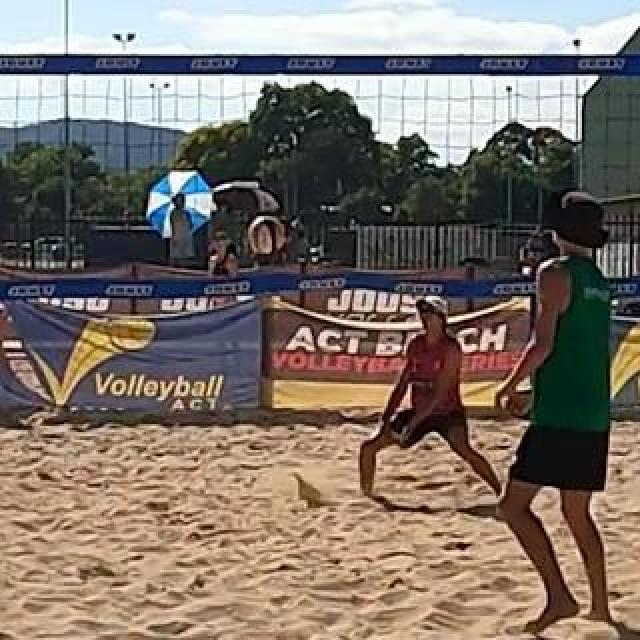volleyball: (247, 216, 285, 254)
